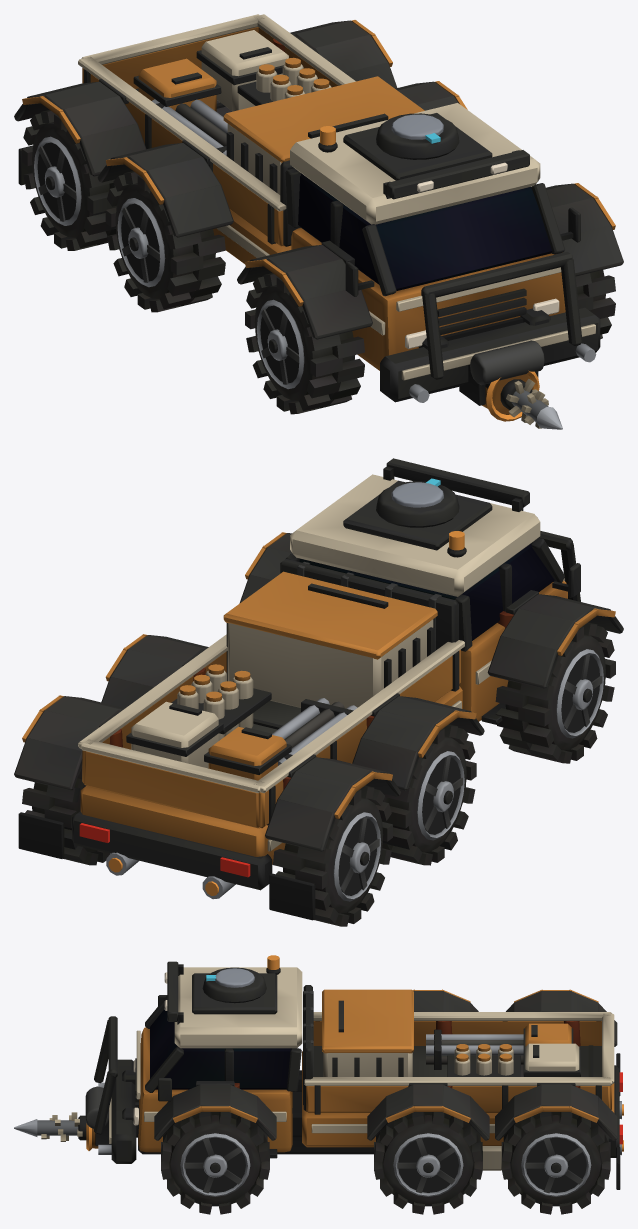
Rendered from ex_rover_3.glb.
3 renders of one model, top to bottom at view 1: azimuth 30°, elevation 25°; view 2: azimuth 150°, elevation 25°; view 3: azimuth 270°, elevation 25°, orthographic. The views are drawn at different scales.
Parts seen in each view (by area): view 1: body, wheel_3, wheel_1, wheel_5, drill, wheel_0; view 2: body, wheel_1, wheel_5, wheel_3, wheel_4; view 3: body, wheel_4, wheel_0, wheel_2, drill.
Part boxes in pixels (x1,y1,x2,y2): body: (14, 14, 623, 421); wheel_3: (105, 171, 225, 312); wheel_1: (245, 273, 364, 414); wheel_5: (22, 110, 116, 250); drill: (500, 379, 562, 429); wheel_0: (575, 270, 615, 339); body: (14, 458, 623, 920); wheel_1: (495, 622, 615, 763); wheel_5: (273, 785, 392, 926); wheel_3: (382, 724, 476, 865); wheel_4: (22, 765, 109, 865); body: (85, 955, 623, 1189); wheel_4: (501, 1112, 610, 1214); wheel_0: (161, 1112, 269, 1214); wheel_2: (374, 1112, 482, 1214); drill: (14, 1112, 86, 1141).
Bounding box in the file's own units: 4.16 × 2.99 × 9.06.
